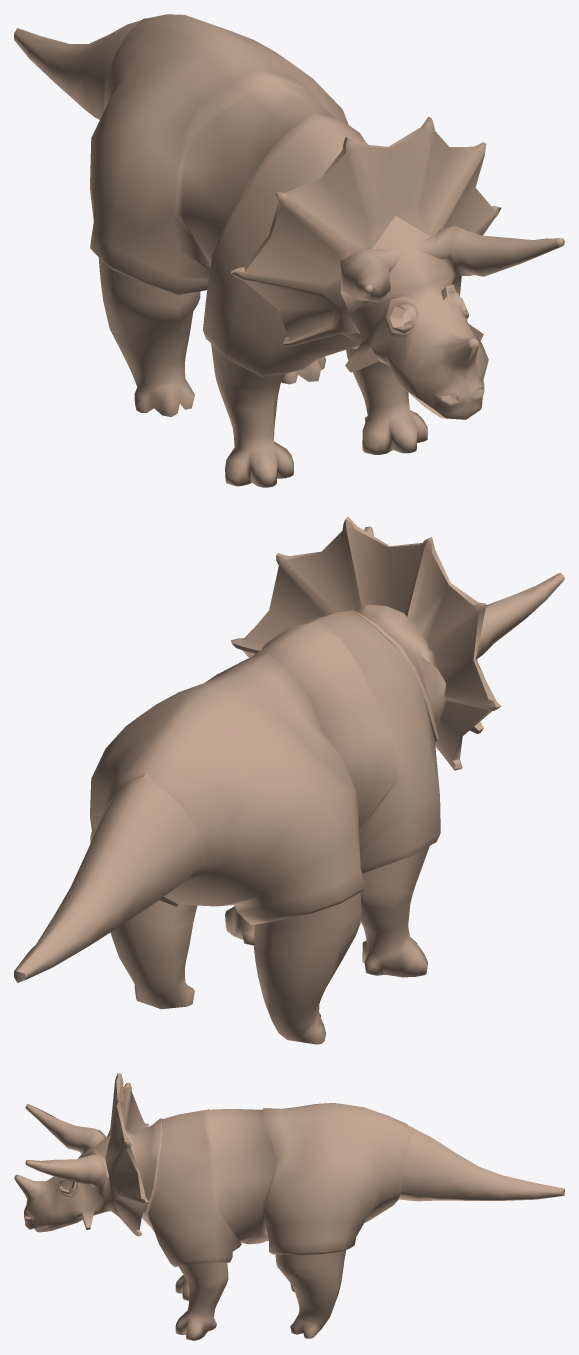
The model's file is trice.FBX.
3 renders of one model, top to bottom at view 1: azimuth 30°, elevation 25°; view 2: azimuth 150°, elevation 25°; view 3: azimuth 270°, elevation 25°, orthographic. The views are drawn at different scales.
Parts seen in each view (by area): view 1: PM3D_trice; view 2: PM3D_trice; view 3: PM3D_trice.
Boxes of the visible parts, x1,y1,x2,y2 form: PM3D_trice: [14, 14, 564, 487]; PM3D_trice: [14, 517, 564, 1044]; PM3D_trice: [14, 1073, 564, 1340].
Size of the model in its own units: 38.71 by 51.59 by 114.
